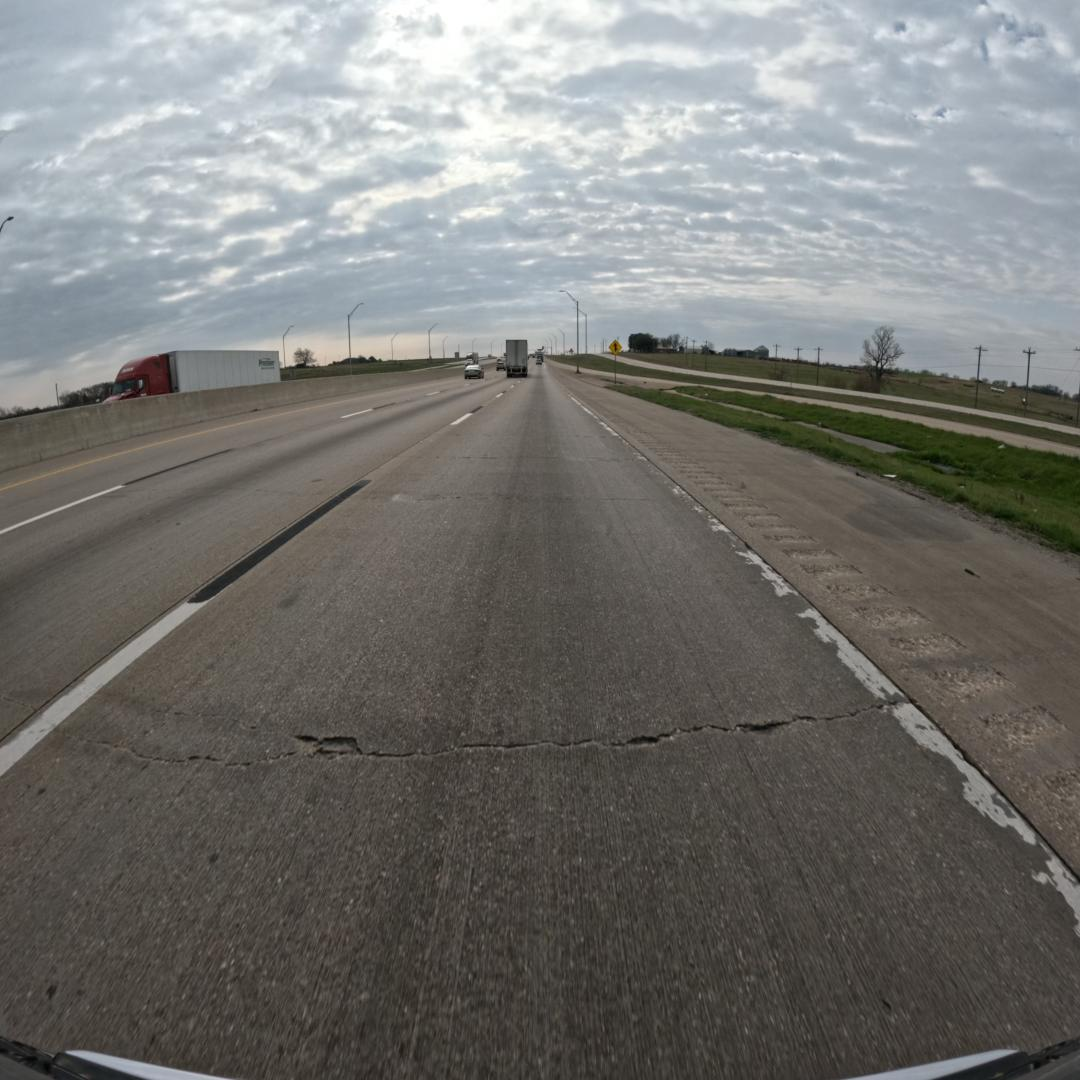lane0: (0, 364, 1080, 1080)
lane1: (0, 376, 524, 741)
